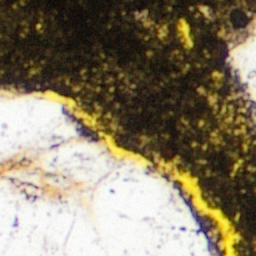cement_matrix: (0, 0, 255, 255), (198, 215, 220, 254), (178, 23, 189, 42)
cracks: (0, 88, 238, 255), (197, 214, 221, 255), (0, 158, 30, 175), (179, 24, 188, 41)
gravel_crushed_stones: (0, 94, 211, 255), (228, 16, 255, 123)
